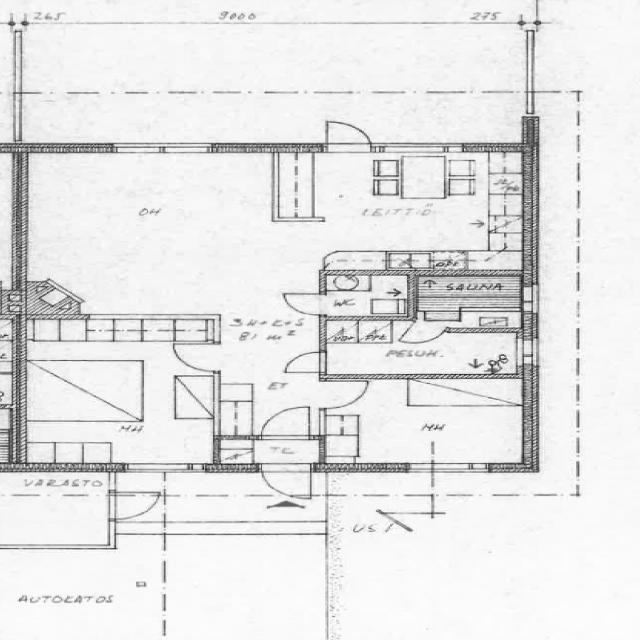door: (261, 464, 310, 504), (326, 116, 371, 153), (262, 406, 309, 439), (108, 492, 159, 518), (320, 381, 369, 408), (402, 320, 446, 348), (172, 344, 219, 370), (287, 294, 326, 314), (288, 353, 326, 372)
